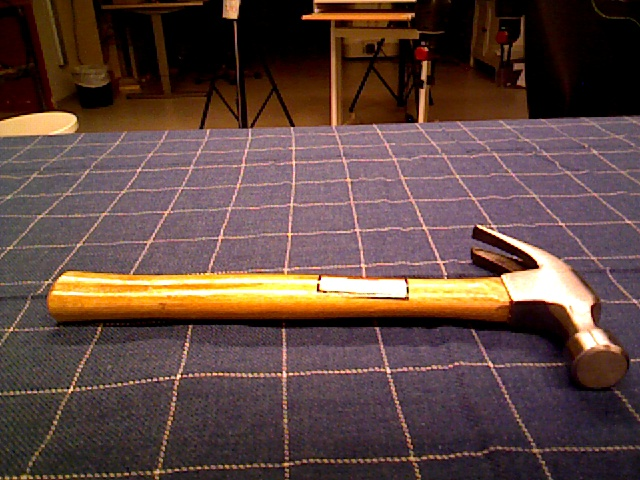hammer1: (45, 223, 629, 392)
